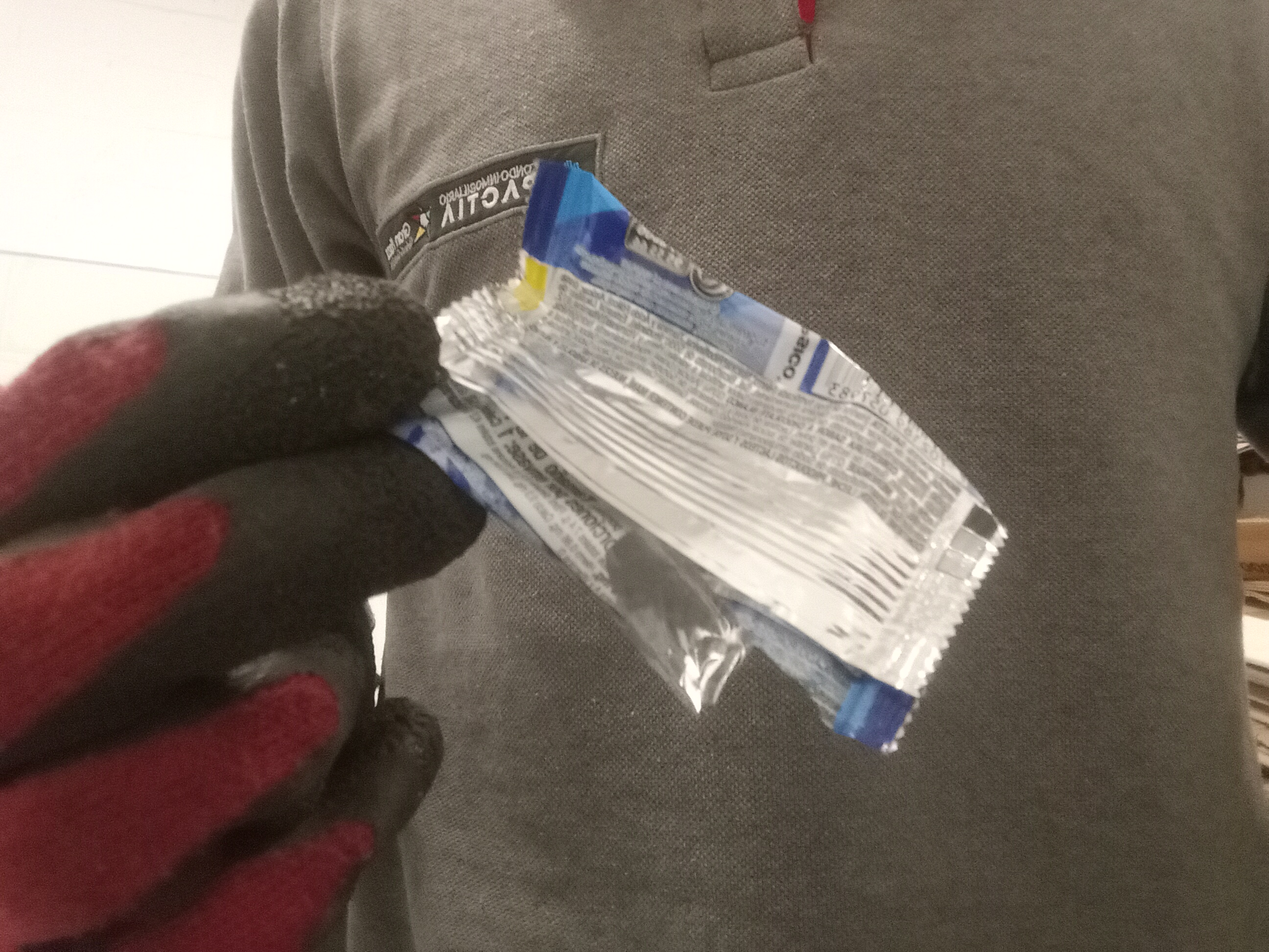Ordinario: (382, 157, 1008, 755)
